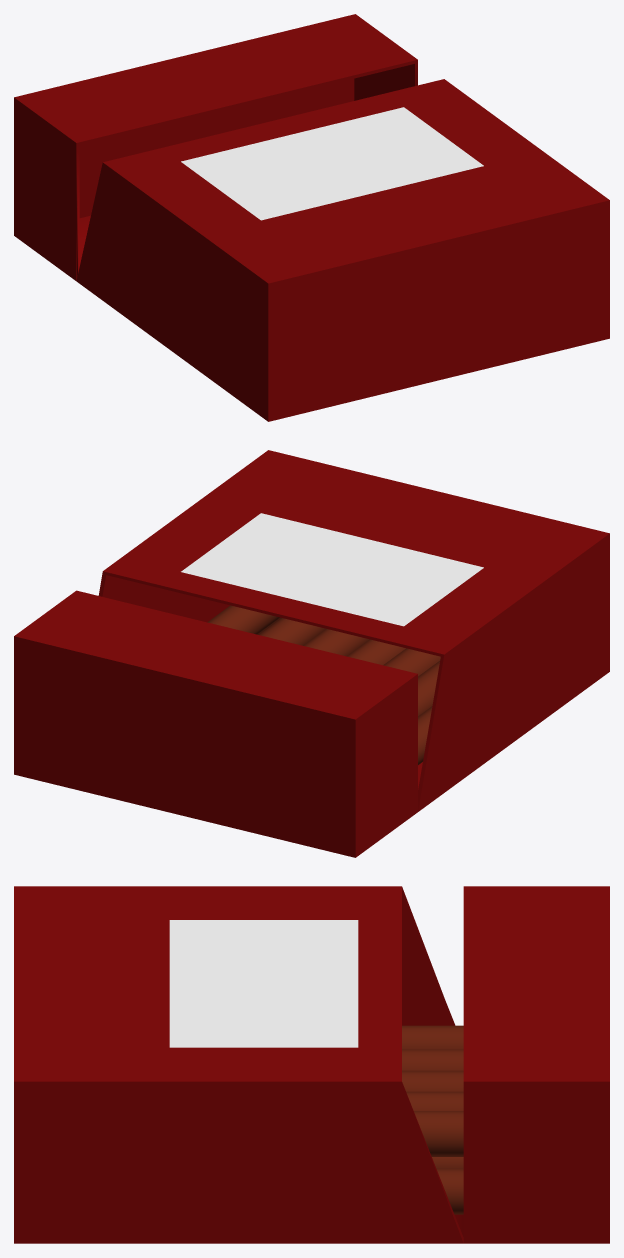
File: cigarette_pack_1.FBX
3 views of the same model, one above another, from view 1: azimuth 30°, elevation 25°; view 2: azimuth 150°, elevation 25°; view 3: azimuth 270°, elevation 25° (orthographic). The views are drawn at different scales.
Parts seen in each view (by area): view 1: Box040; view 2: Box040; view 3: Box040.
Part boxes in pixels (bbox=[...]): Box040: bbox=[14, 14, 609, 421]; Box040: bbox=[14, 450, 609, 857]; Box040: bbox=[14, 886, 609, 1243].
Bounding box in the file's own units: 18.42 × 7.13 × 23.77.
